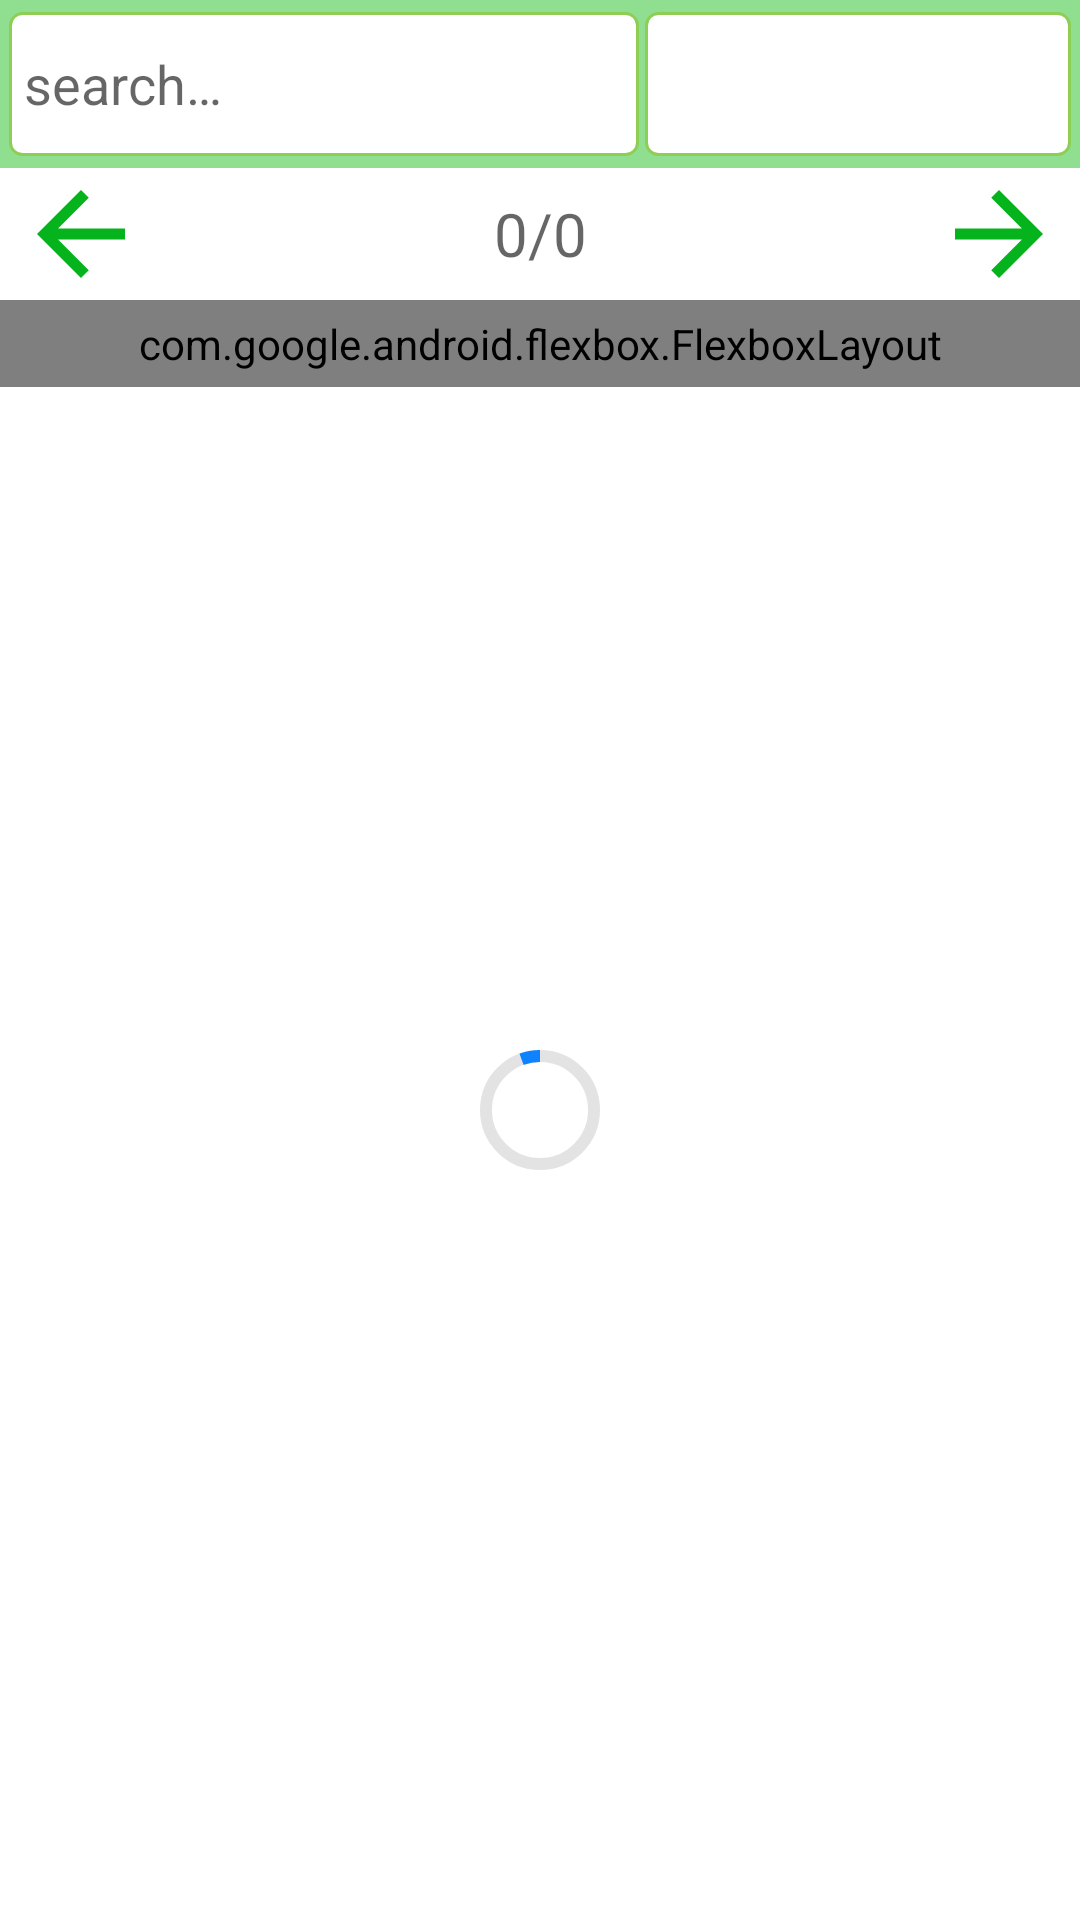

Point at icon controls on the screen. Image size 1080x1920, points as (x,y).
left arrow: (81,234)
right arrow: (999,234)
